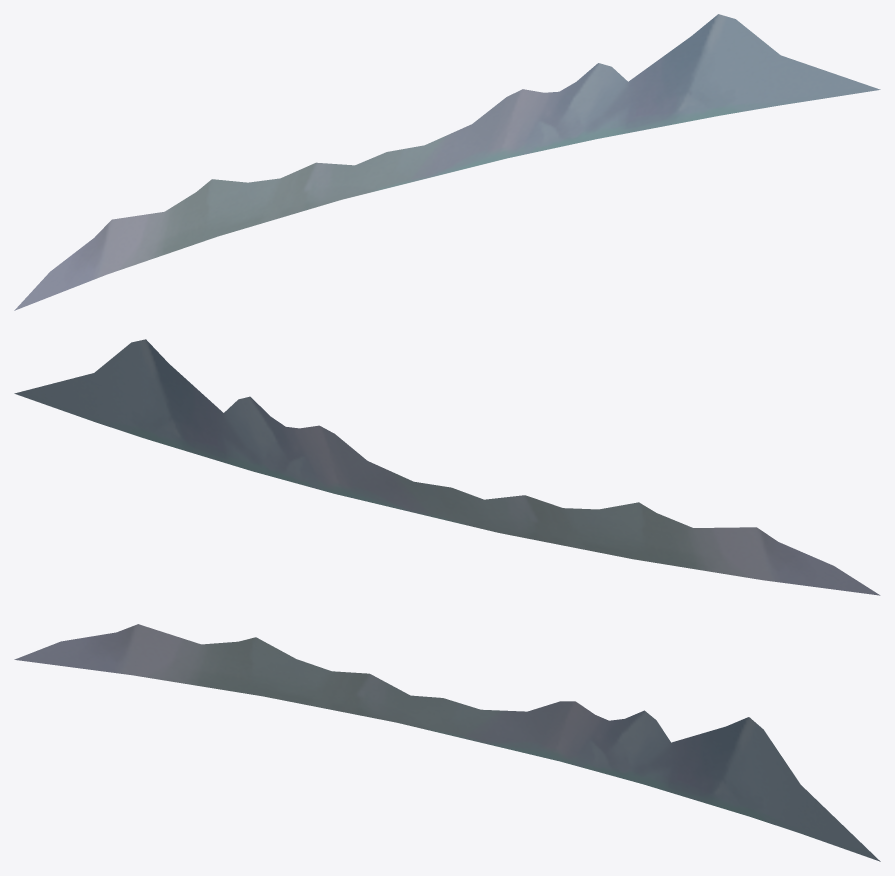
Rendered from sucai_13.FBX.
The picture shows the model from 3 angles, top to bottom: view 1: azimuth 30°, elevation 25°; view 2: azimuth 150°, elevation 25°; view 3: azimuth 330°, elevation 25°; orthographic projection. The views are drawn at different scales.
Parts seen in each view (by area): view 1: sucai_14; view 2: sucai_14; view 3: sucai_14.
Boxes of the visible parts, left/top/right/bottom form: sucai_14: left=14, top=14, right=880, bottom=310; sucai_14: left=14, top=339, right=880, bottom=595; sucai_14: left=14, top=624, right=880, bottom=861.
Bounding box in the file's own units: 1076 × 120 × 71.22.
